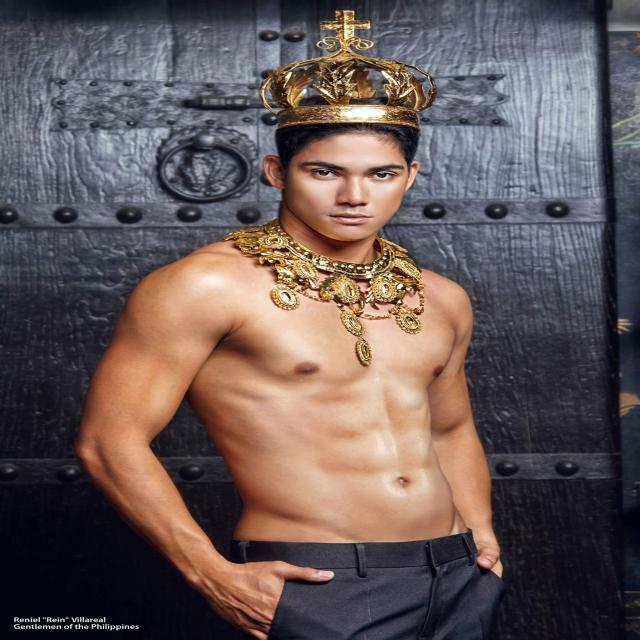human: (71, 7, 525, 640)
